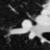node: (6, 19, 32, 35), (33, 13, 50, 27)
